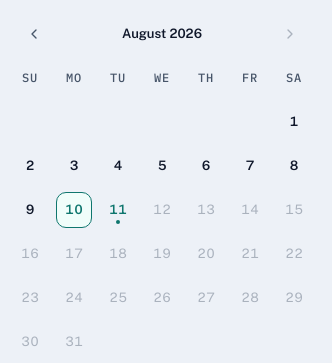
Test: DayPickerCalendar › bounds month navigation to the record window
The image size is (332, 363).
expect the button named "next month" is disabled: met, box [268,12,312,56]
Click the button named "previous month" at coordinates (34, 34), box [12,12,56,56]
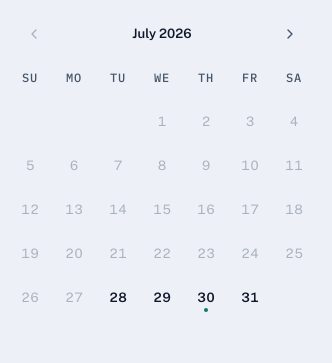
expect the button named "next month" is enabled: met, box [268,12,312,56]
expect the text "July 2026" is shown: met, box [132,24,192,44]
